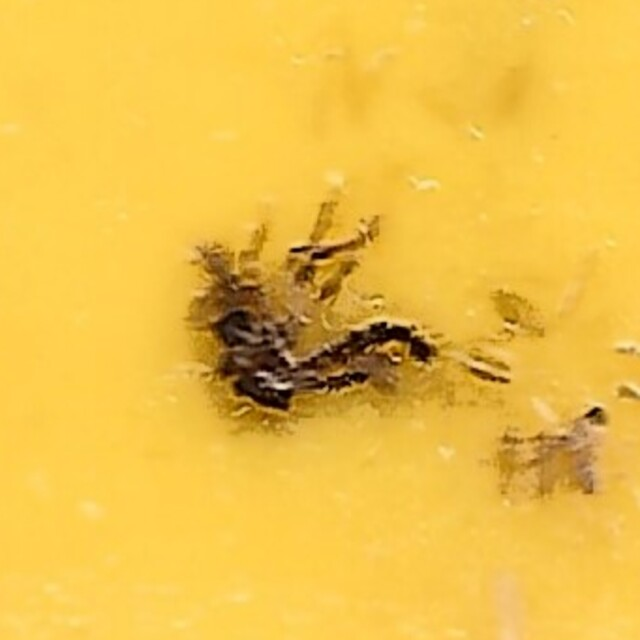Nematocera: (188, 218, 452, 422)
